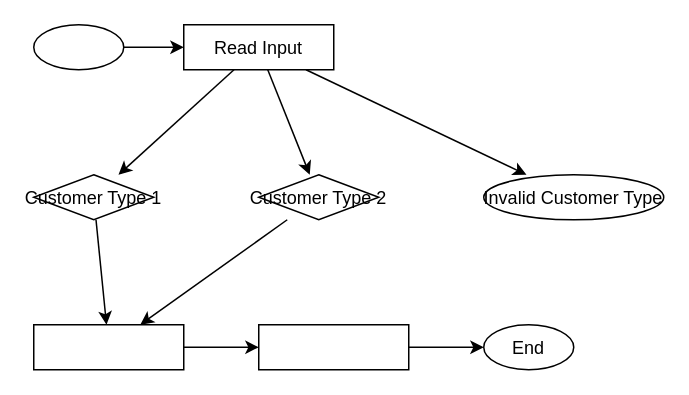
Image size: 689x395. Some labels were removed from this diagram. Here are the shapes that lost their labels. From the top down, the centre of each, then its label:
At point (78, 46): "Start".
At point (108, 346): "Calculate Bill".
At point (333, 346): "Print Output".
